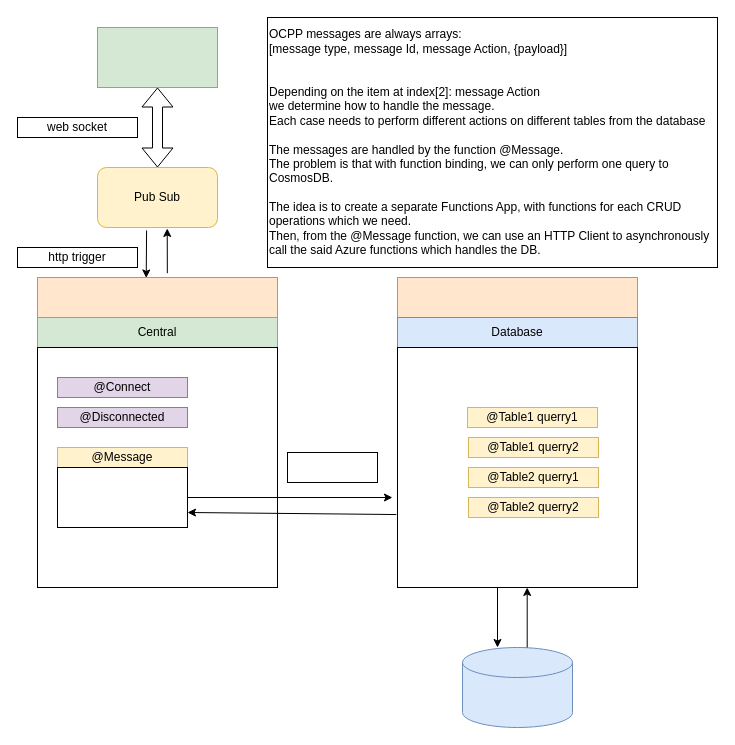
Image size: 735x745. Some labels were removed from this diagram. Each missing label, with the centre of its shape:
async http request: the point at 332,467
AZURE Functions App1: the point at 157,297
AZURE Functions App2: the point at 517,297
Charging Station: the point at 157,57
Cosmos DB serverless: the point at 517,687
handle message: the point at 122,497
